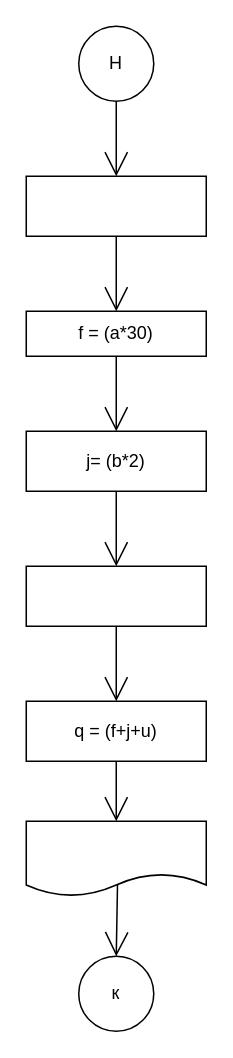
Image size: 233x1058. Some labels were removed from this diagram. Each missing label, with the centre of its shape:
int f, j , a, b, c double u, q: pixel 115 205
u = (c*0.03): pixel 115 595
угол составляет {q} градусов: pixel 115 858
